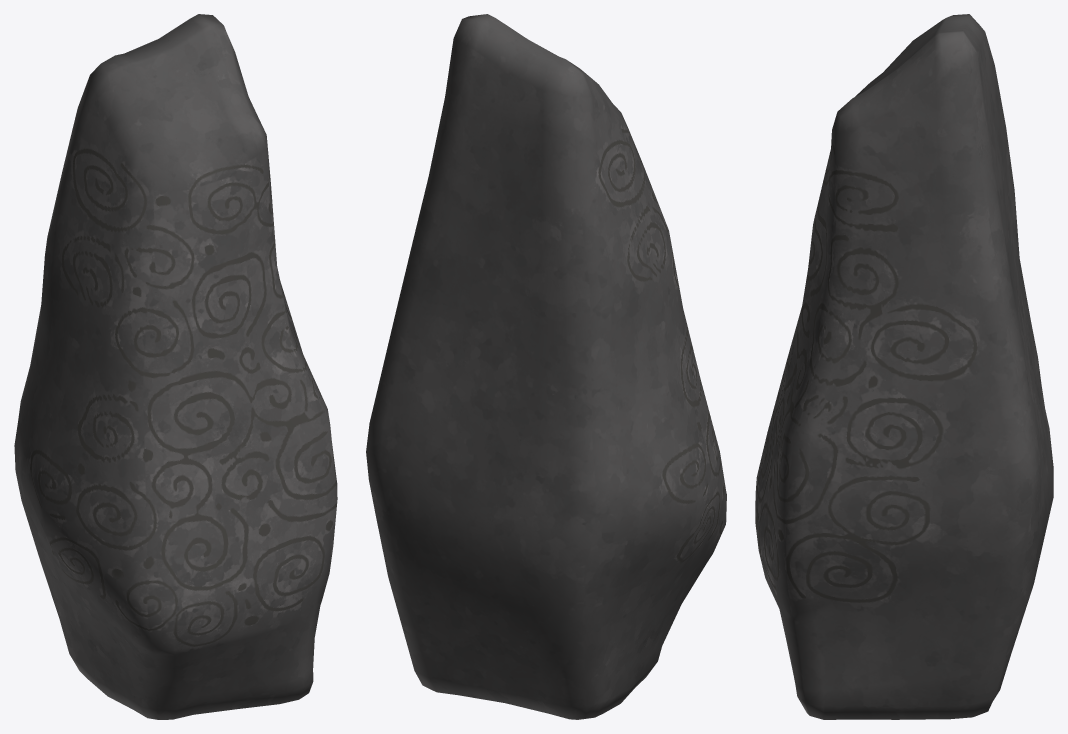
The model's file is Menhir_1_Game.fbx.
3 renders of one model, left to right at view 1: azimuth 30°, elevation 25°; view 2: azimuth 150°, elevation 25°; view 3: azimuth 270°, elevation 25°, orthographic. The views are drawn at different scales.
Visible parts, largest first — view 1: pCube8; view 2: pCube8; view 3: pCube8.
Boxes of the visible parts, box(x1,y1,x2,y2) form: pCube8: box(14, 14, 337, 719); pCube8: box(366, 14, 726, 719); pCube8: box(755, 14, 1053, 719).
Bounding box in the file's own units: 5.21 × 12.24 × 4.92.
Materials: 1 (1 with a texture image).
